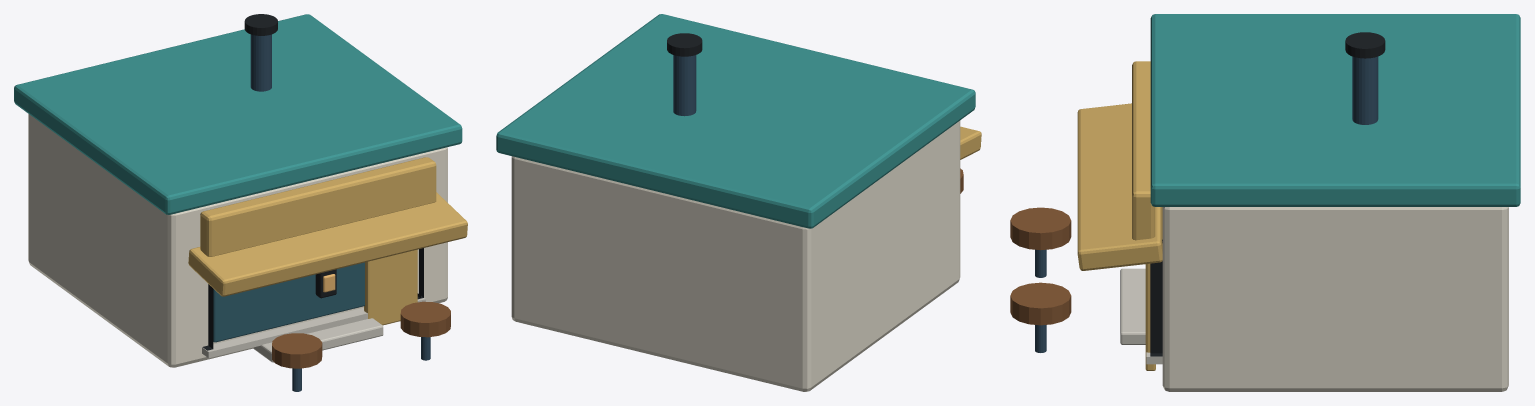
File: COM_LOW_1x1_003.glb
The picture shows the model from 3 angles, left to right: view 1: azimuth 30°, elevation 25°; view 2: azimuth 150°, elevation 25°; view 3: azimuth 270°, elevation 25°; orthographic projection. The views are drawn at different scales.
Visible parts, largest first — view 1: COM_LOW_1x1_003_Visual; view 2: COM_LOW_1x1_003_Visual; view 3: COM_LOW_1x1_003_Visual.
Boxes of the visible parts, left/top/right/bottom form: COM_LOW_1x1_003_Visual: left=14, top=14, right=467, bottom=391; COM_LOW_1x1_003_Visual: left=496, top=14, right=981, bottom=391; COM_LOW_1x1_003_Visual: left=1010, top=14, right=1520, bottom=391.
Size of what is drawn, in the model's own units: 1.75 by 1.38 by 2.18.
